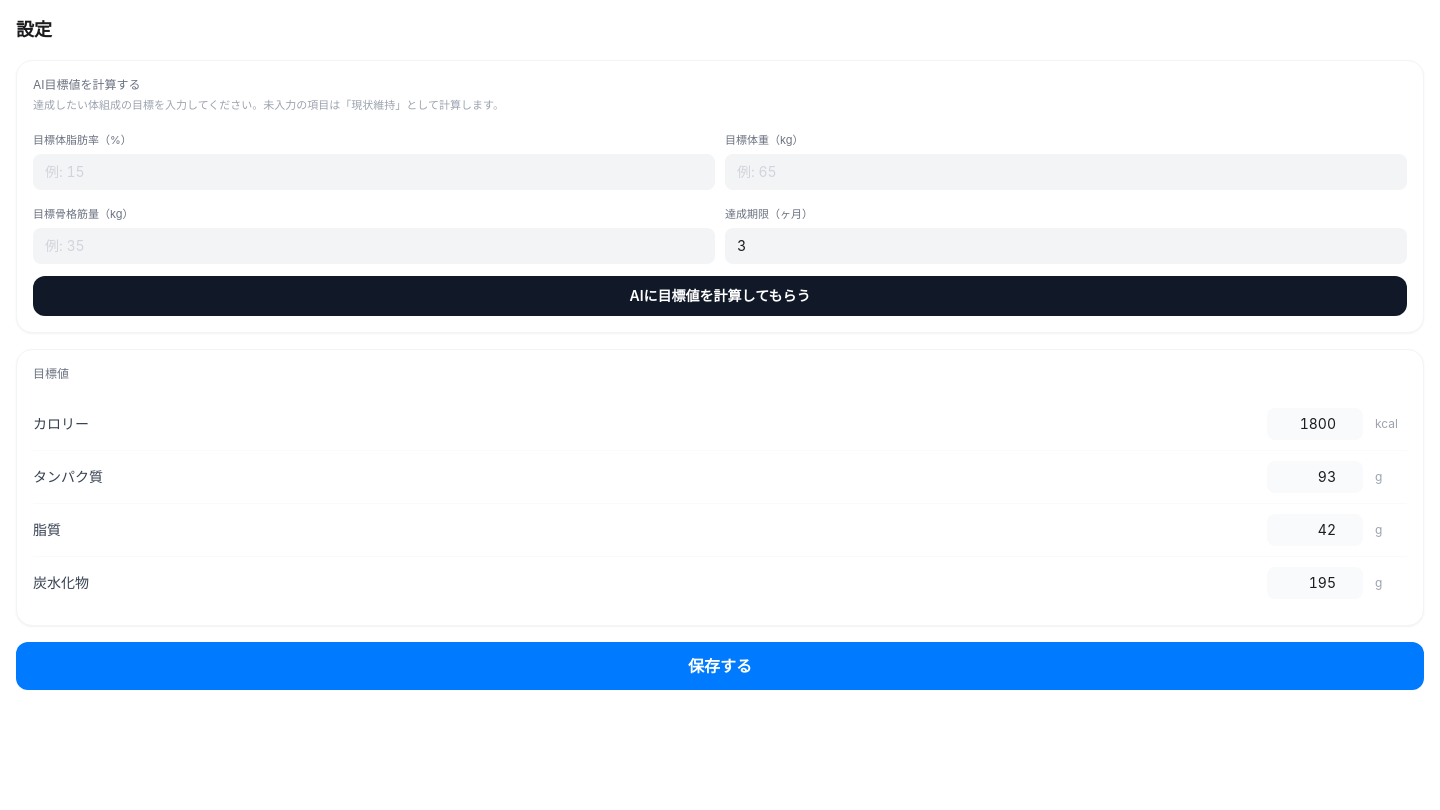
Scenario: SettingsScreen › shows error message on save failure
The image size is (1440, 810).
What coordinates should you click on to do the following:
click the button "保存する"
I would click on:
 (720, 666)
Its box is [16, 642, 1424, 690].
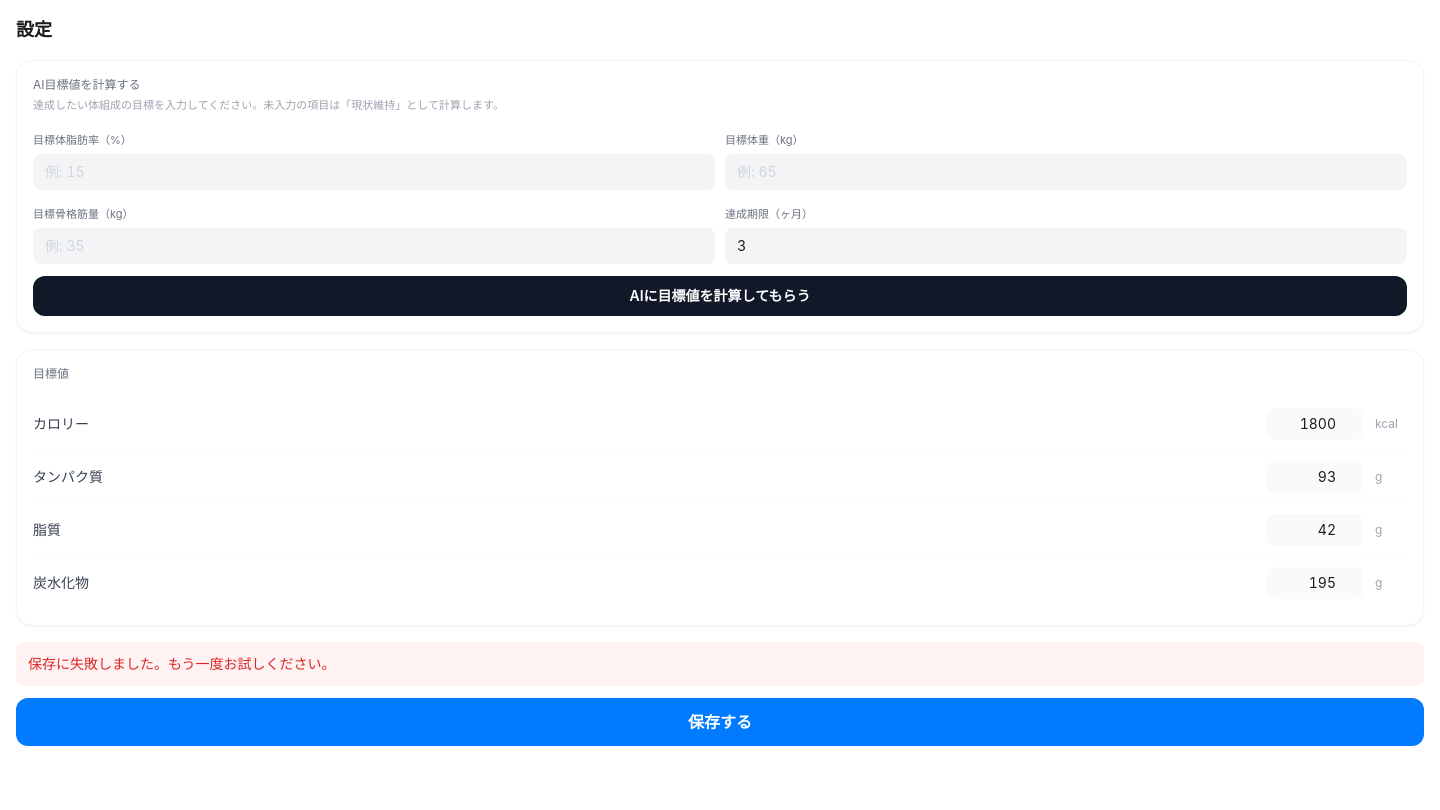
Expected: the text "保存に失敗しました。もう一度お試しください。" is shown, [16, 642, 1424, 686]
